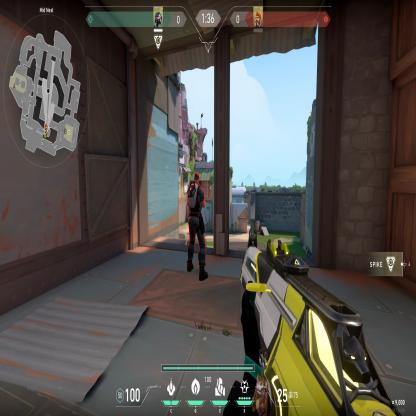enemy: (183, 170, 210, 286)
